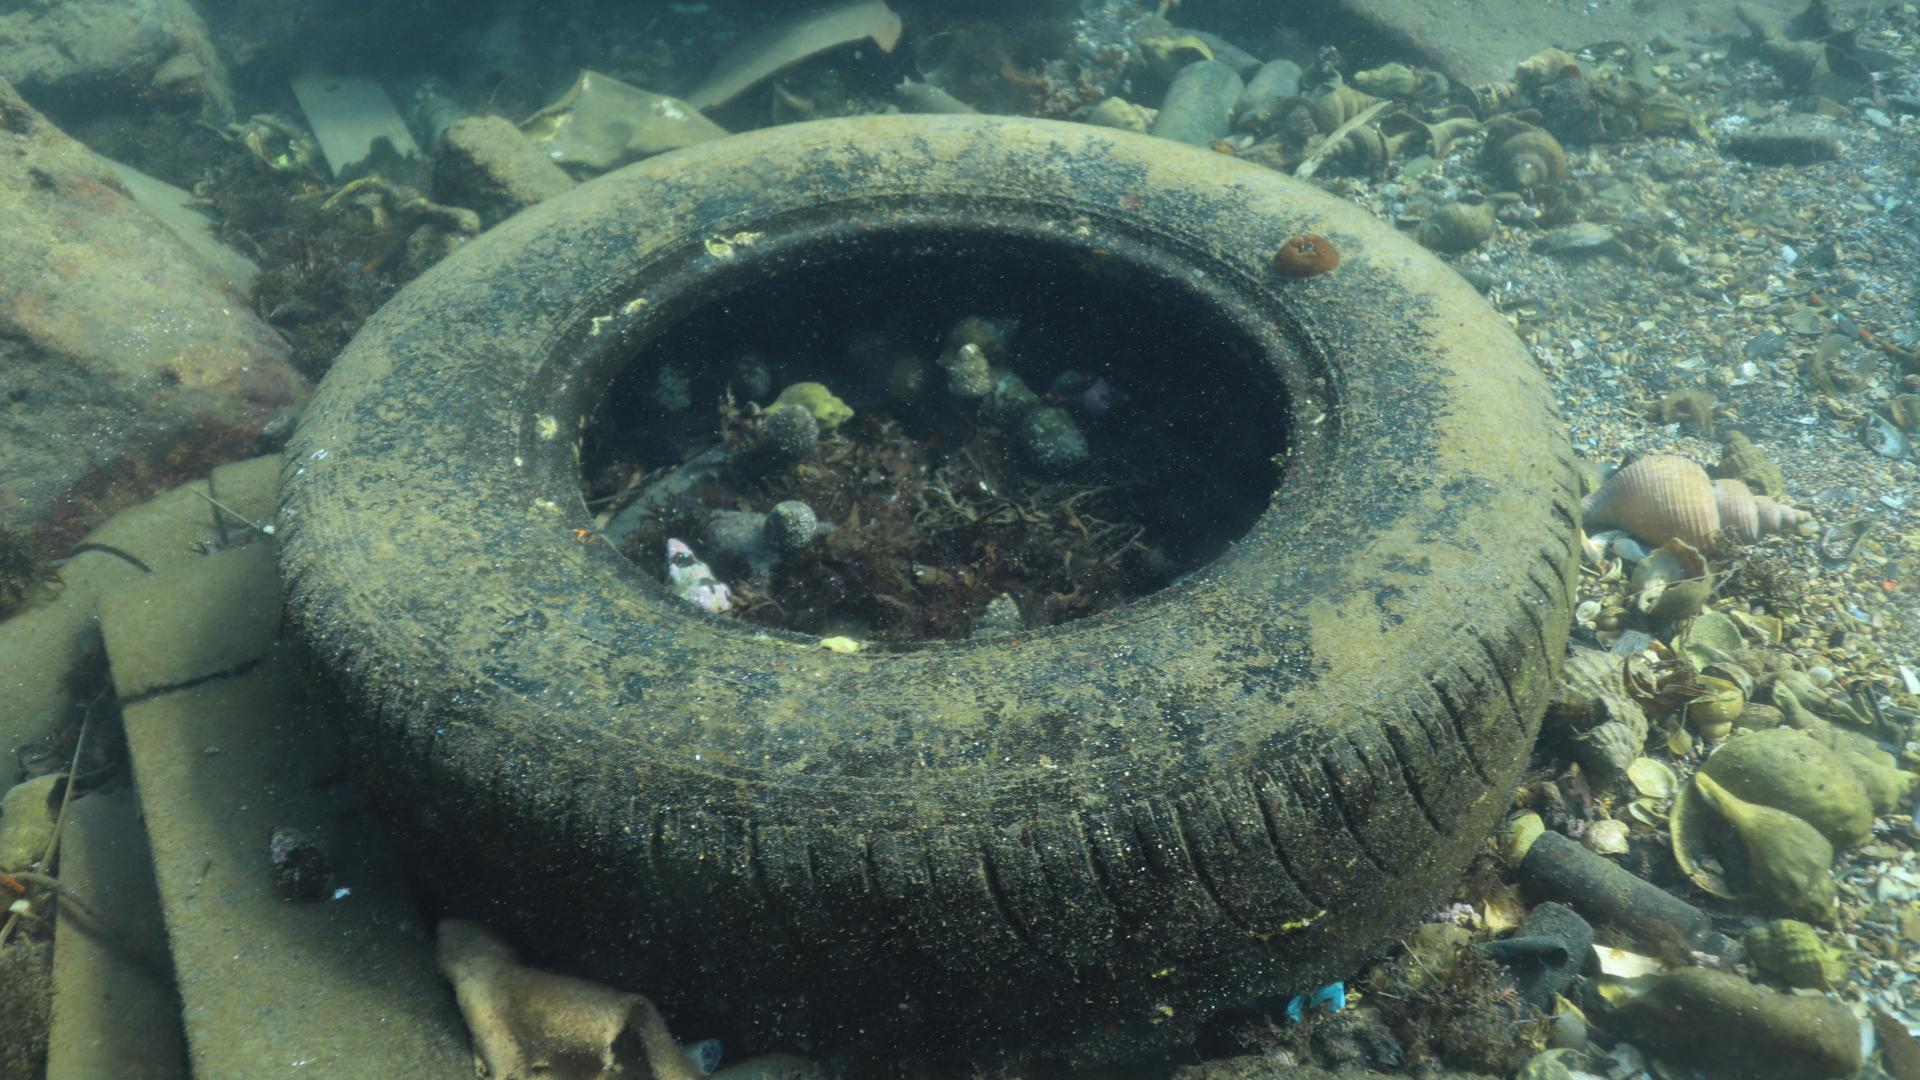tire: (270, 105, 1584, 1069)
wood: (80, 543, 484, 1080)
